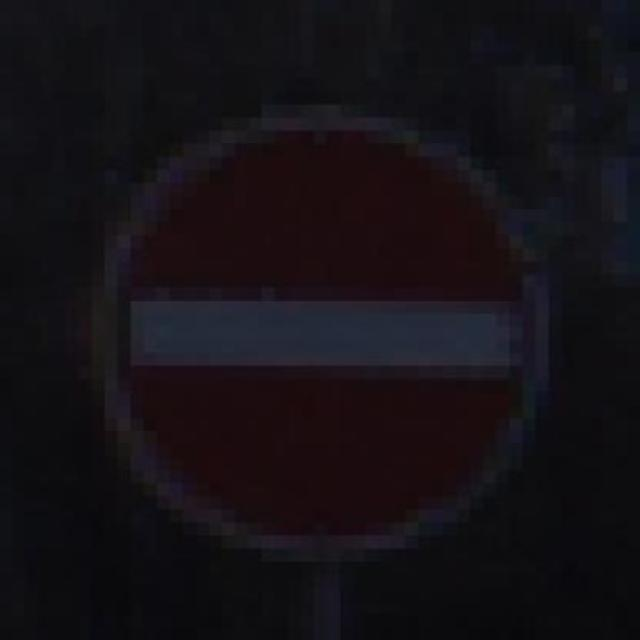No Entry: (52, 91, 588, 574)
